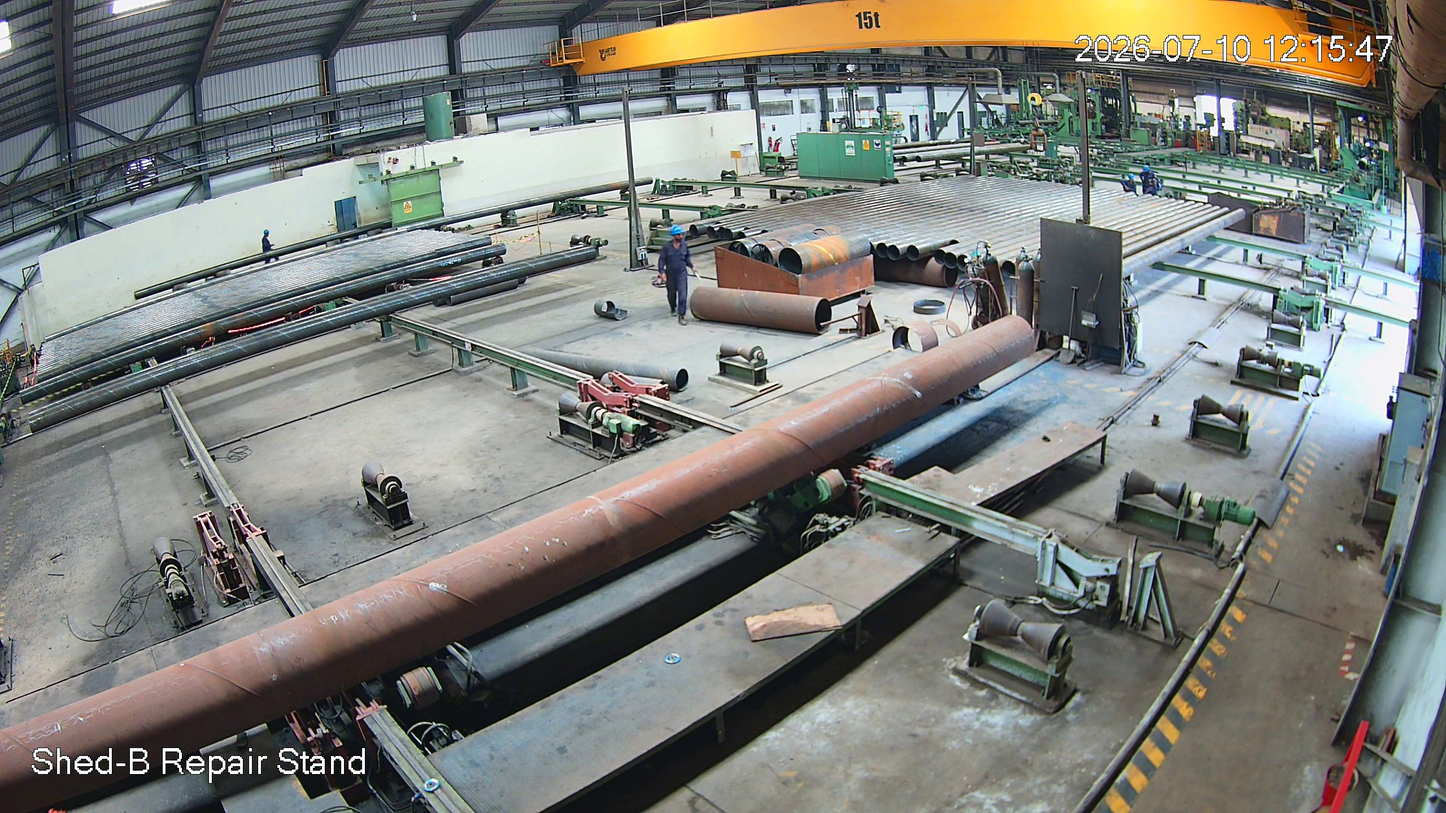Helmet: (668, 222, 692, 251)
Person: (663, 224, 693, 326)
